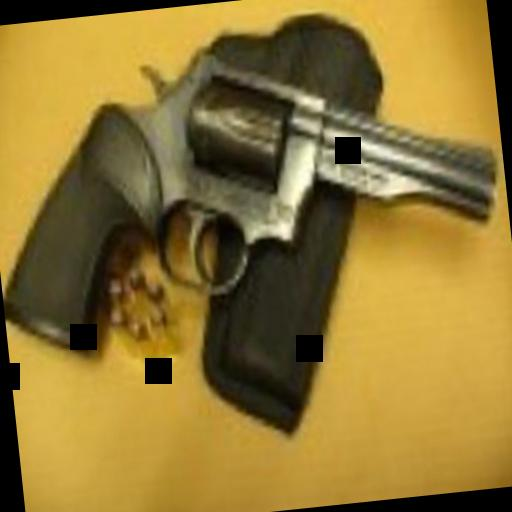Handgun: (0, 8, 512, 357)
